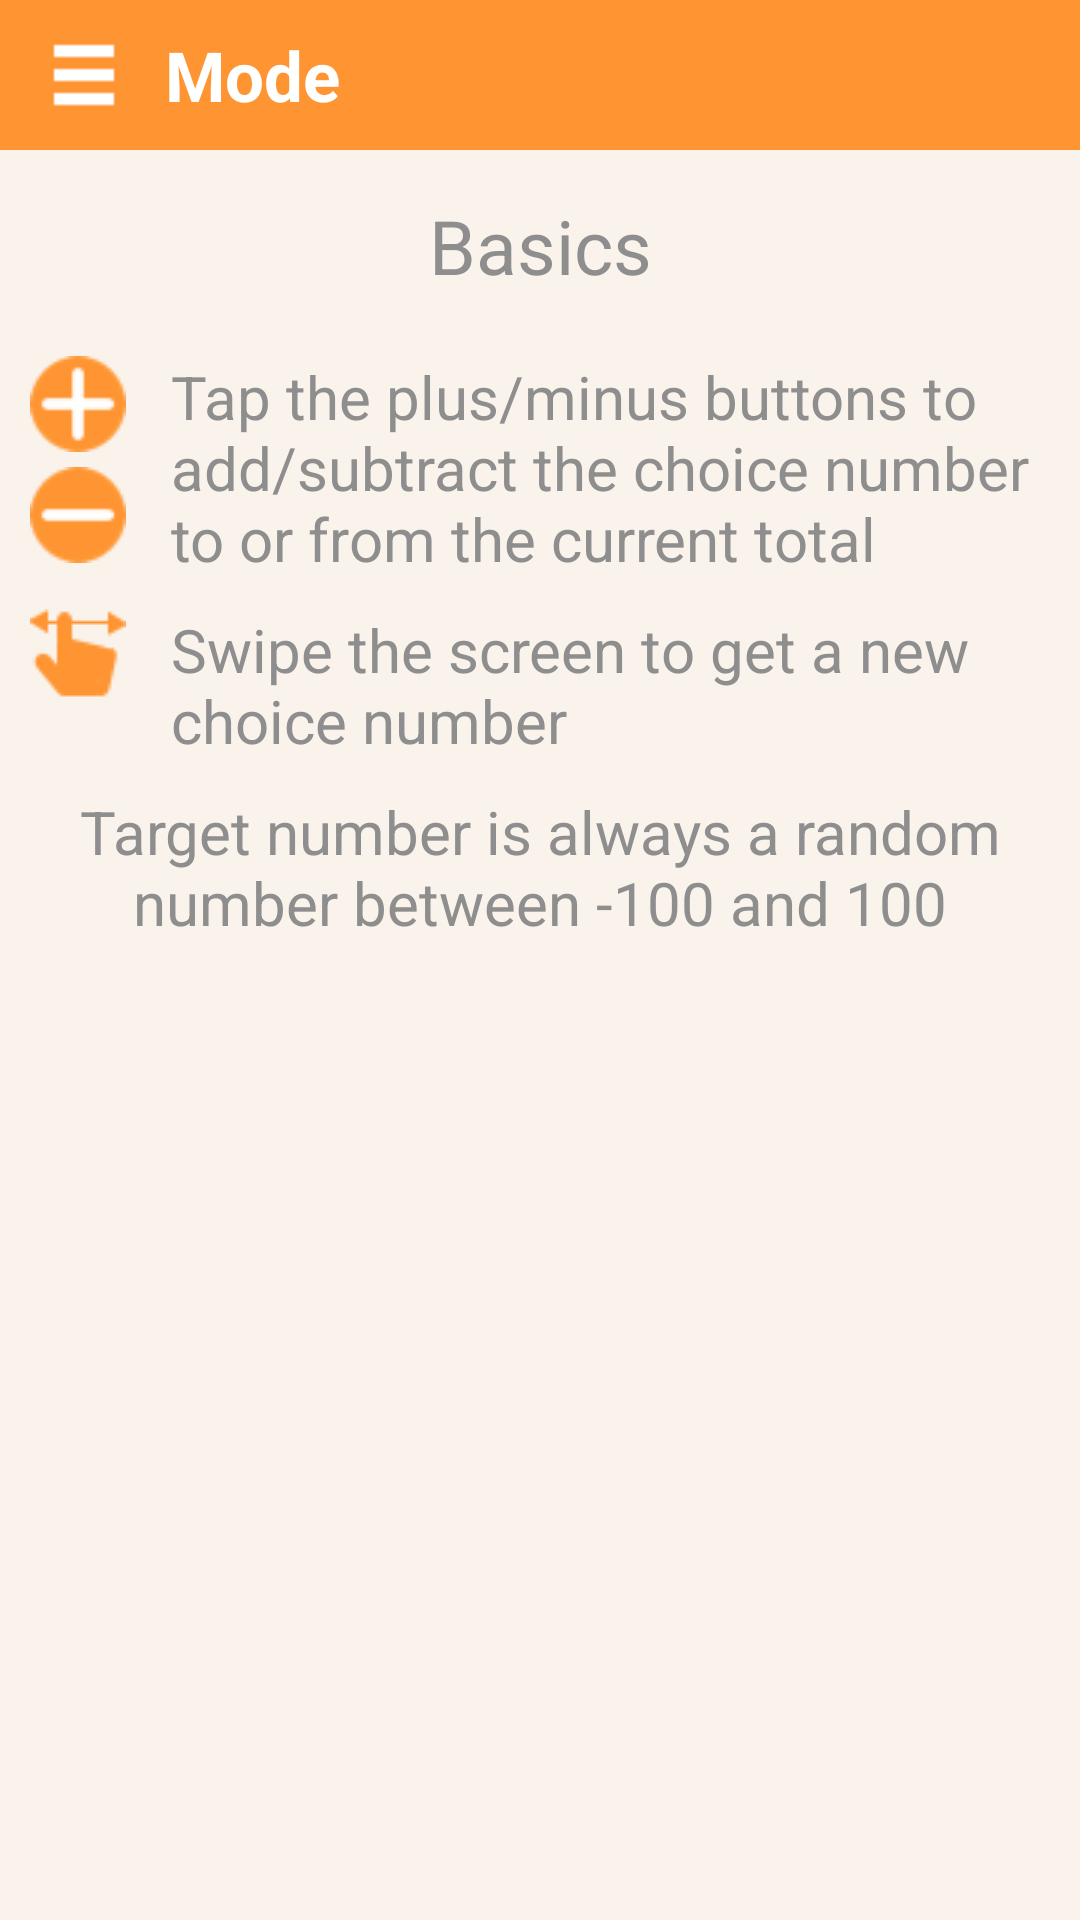

Where to tap for icons on this 1080×1920 app screen, as [x,y]:
circle minus: [78,515]
circle plus: [78,404]
